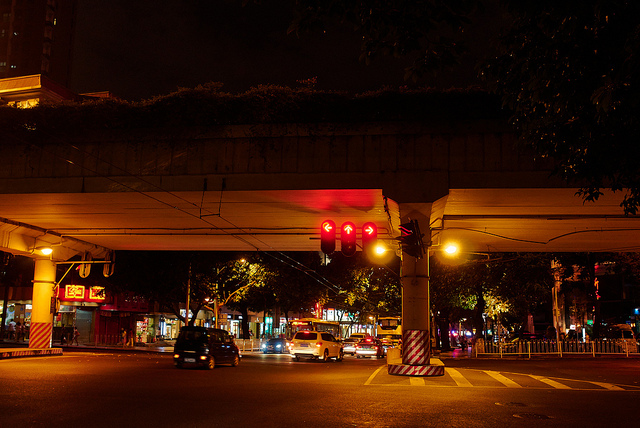car: (172, 324, 243, 374)
